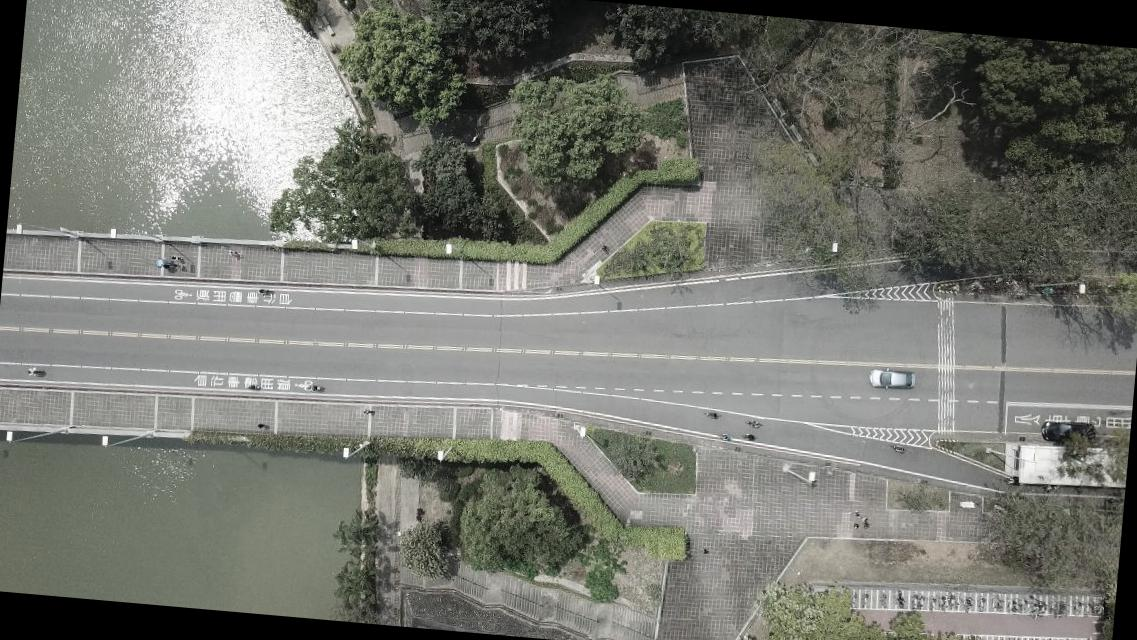vehicle: (1040, 418, 1096, 446), (869, 366, 916, 392)
